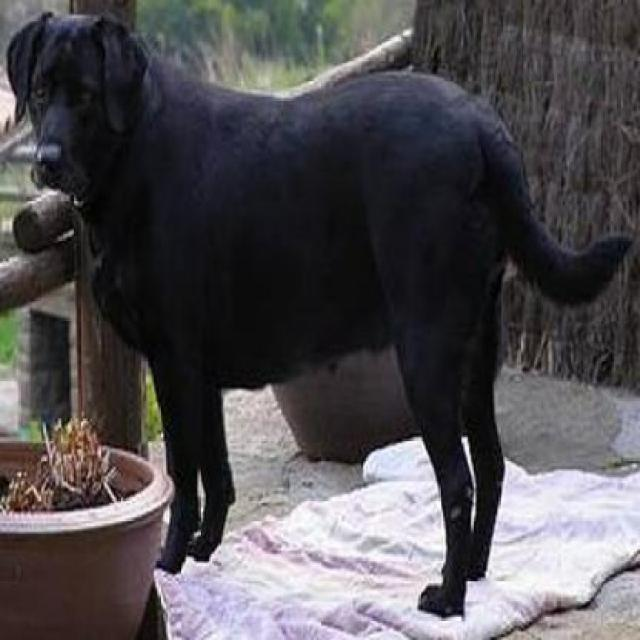Dog: (3, 4, 632, 614)
